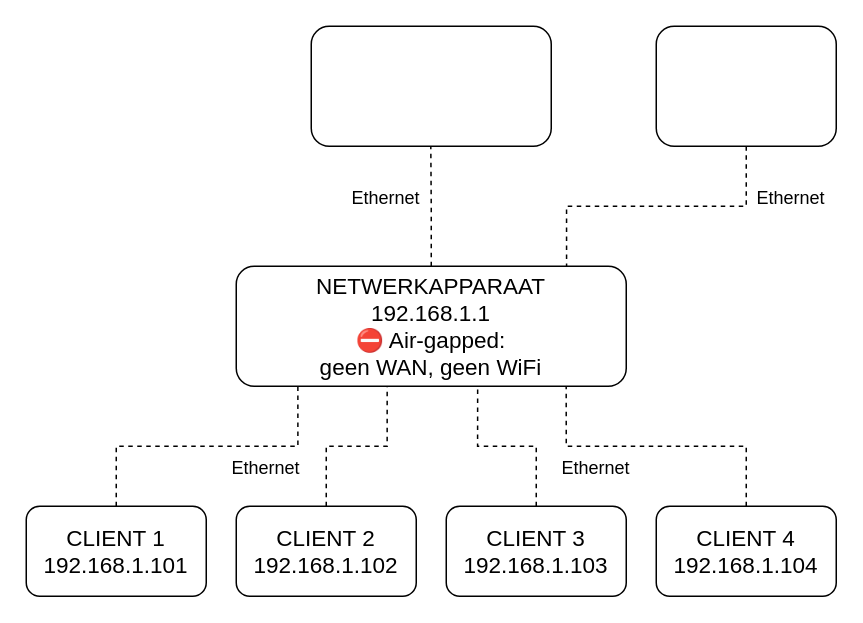
Some shapes in this 863 by 623 pixel diagram are drawn without their labels. The centre of each missing label's shape, as x and y in pixels:
"(optioneel) PRINTER 192.168.1.20" belongs at [745,85].
"SERVER 192.168.1.10" belongs at [430,85].
